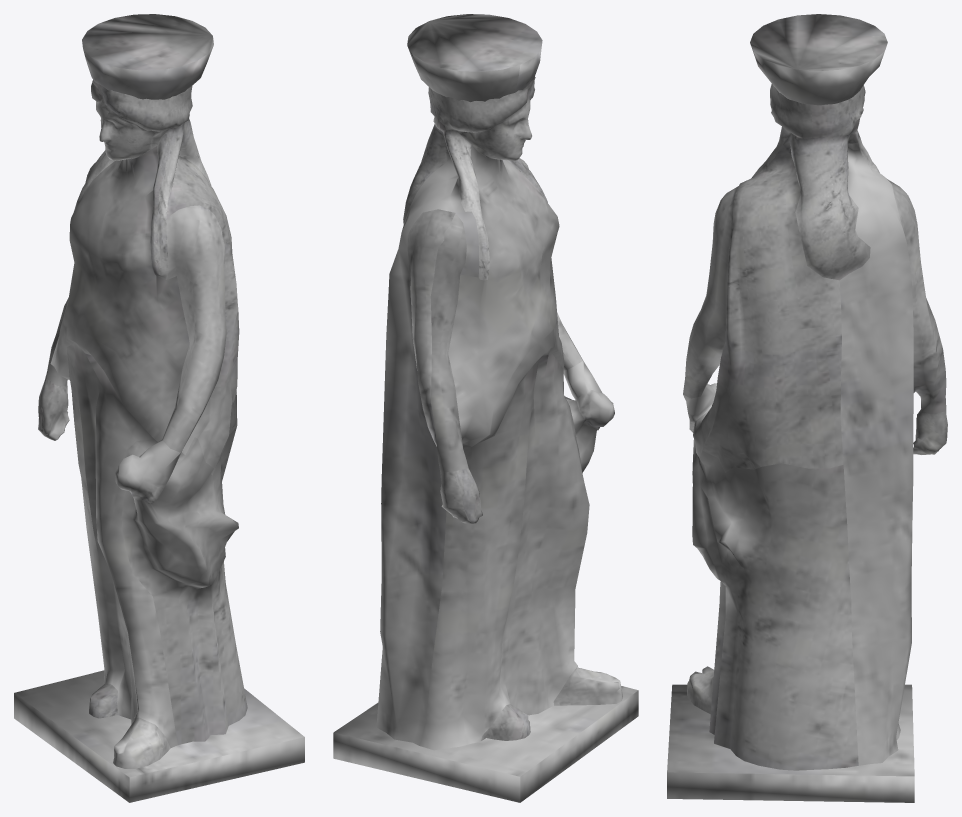
3 views of the same model, side by side, from view 1: azimuth 30°, elevation 25°; view 2: azimuth 150°, elevation 25°; view 3: azimuth 270°, elevation 25° (orthographic). The views are drawn at different scales.
Parts seen in each view (by area): view 1: Spouse; view 2: Spouse; view 3: Spouse.
Part boxes in pixels (x1,y1,x2,y2): Spouse: (14, 14, 304, 802); Spouse: (333, 14, 638, 802); Spouse: (667, 14, 947, 802).
Bounding box in the file's own units: 236 × 857 × 305.
Materials: 1 (1 with a texture image).
